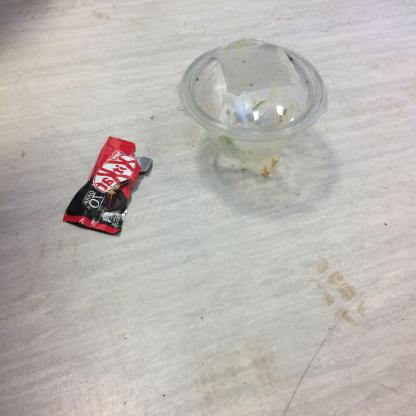plastik: (174, 36, 330, 180), (61, 135, 153, 237)
